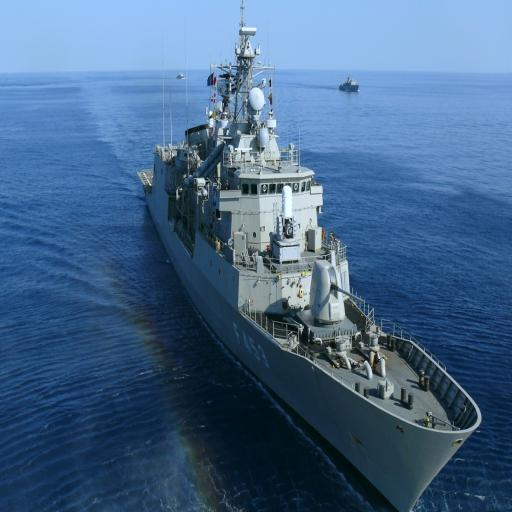Fragata: (138, 2, 488, 510)
